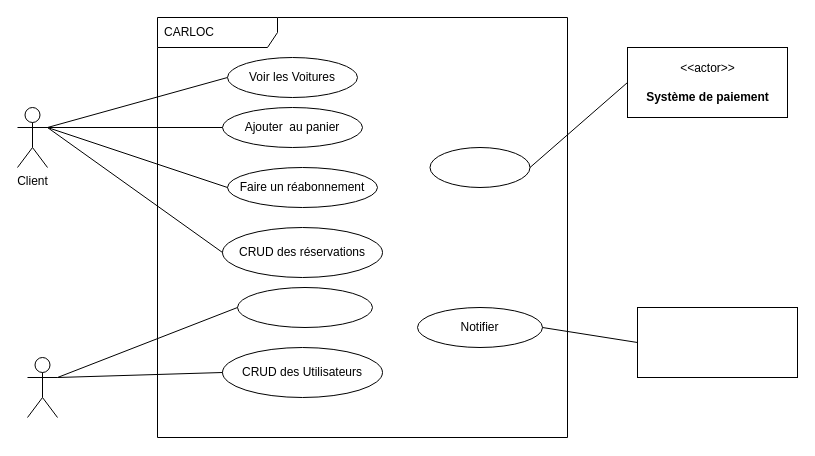
Image size: 815x456. Some labels were removed from this diagram. The shapes that lost their labels are listed below. From the top down, each one's centre as x and y in pixels, then its label:
point 479,167: Payer
point 304,307: CRUD des Voitures
point 717,342: <<actor>> Système de notification
point 42,387: Admin
